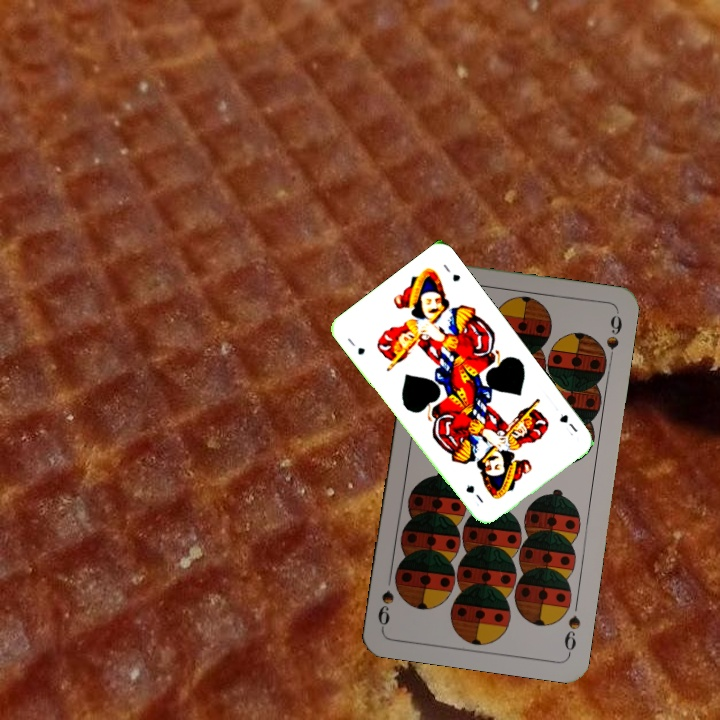GU: (555, 410, 580, 438), (343, 334, 368, 358)
S9: (560, 611, 583, 657)
